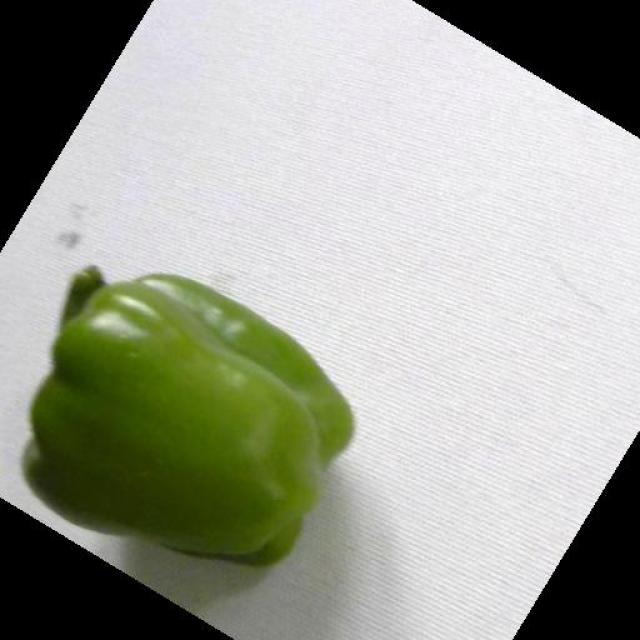Fresh_Capsicum: (39, 259, 346, 585)
